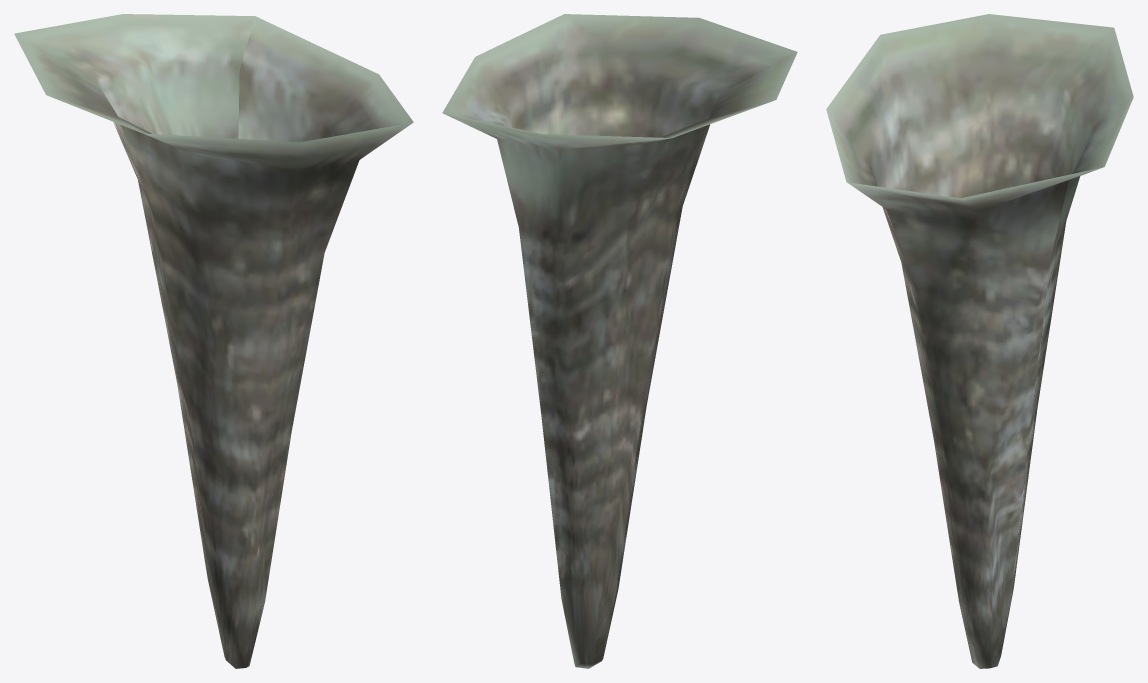
File: TROLLHOLE02_PS-UPPERSTALAG28.fbx
3 views of the same model, side by side, from view 1: azimuth 30°, elevation 25°; view 2: azimuth 150°, elevation 25°; view 3: azimuth 270°, elevation 25° (orthographic). The views are drawn at different scales.
Visible parts, largest first — view 1: TROLLHOLE02_PS-UPPERSTALAG28; view 2: TROLLHOLE02_PS-UPPERSTALAG28; view 3: TROLLHOLE02_PS-UPPERSTALAG28.
Boxes of the visible parts, x1,y1,x2,y2 form: TROLLHOLE02_PS-UPPERSTALAG28: [14, 14, 413, 668]; TROLLHOLE02_PS-UPPERSTALAG28: [442, 14, 797, 668]; TROLLHOLE02_PS-UPPERSTALAG28: [826, 14, 1133, 668].
Size of the model in its own units: 12592 by 23522 by 11487.
Materials: 1 (1 with a texture image).
